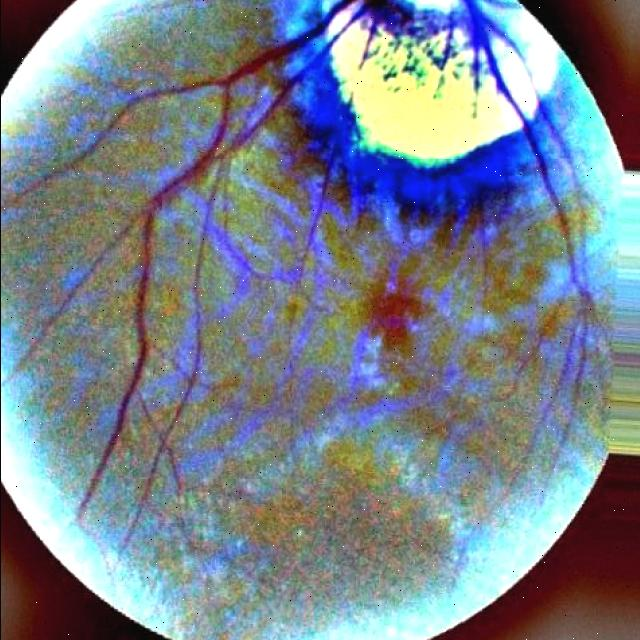Nerves: (77, 0, 588, 515)
